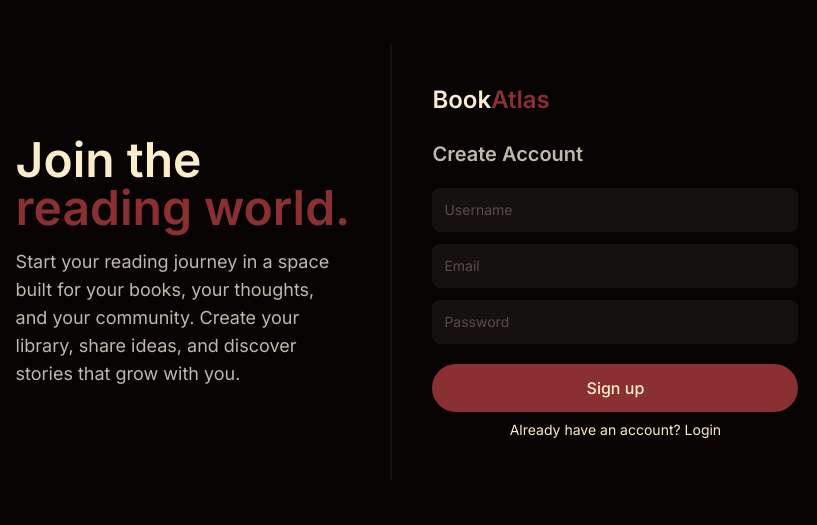
Test: RegisterPage › shows backend error when registration fails
Type "testuser1" into the field with placeholder "Username" at point(615, 210), box top-left (432, 188), bottom-right (798, 232)
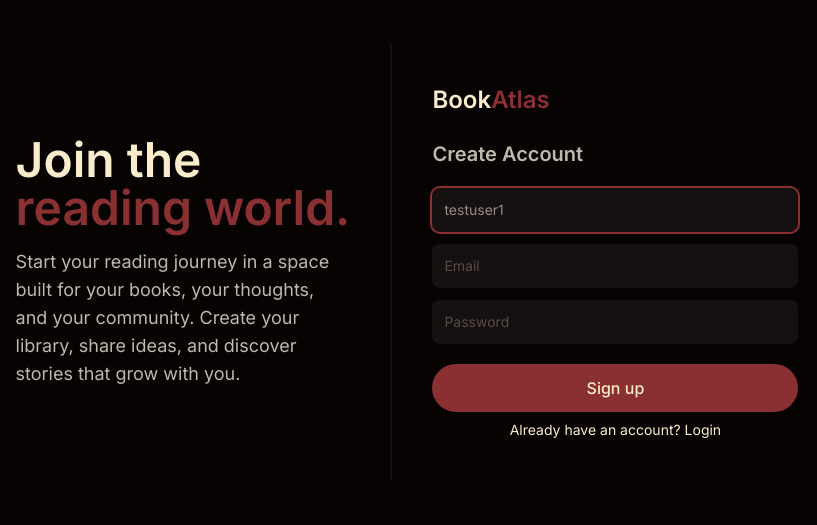
Type "testuser1@example.com" into the field with placeholder "Email" at point(615, 266), box top-left (432, 244), bottom-right (798, 288)
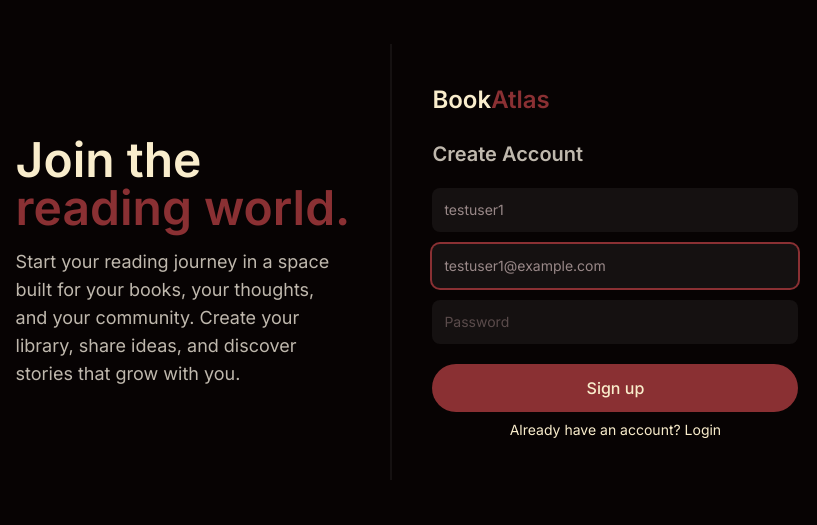
Type "Password123!" into the password field with placeholder "Password" at point(615, 322), box top-left (432, 300), bottom-right (798, 344)
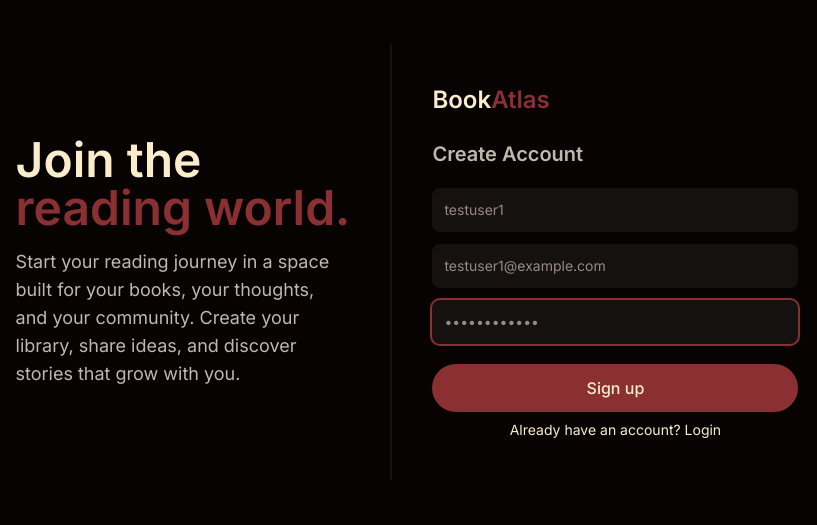
Click the button "Sign up" at point(615, 388), box top-left (432, 364), bottom-right (798, 412)
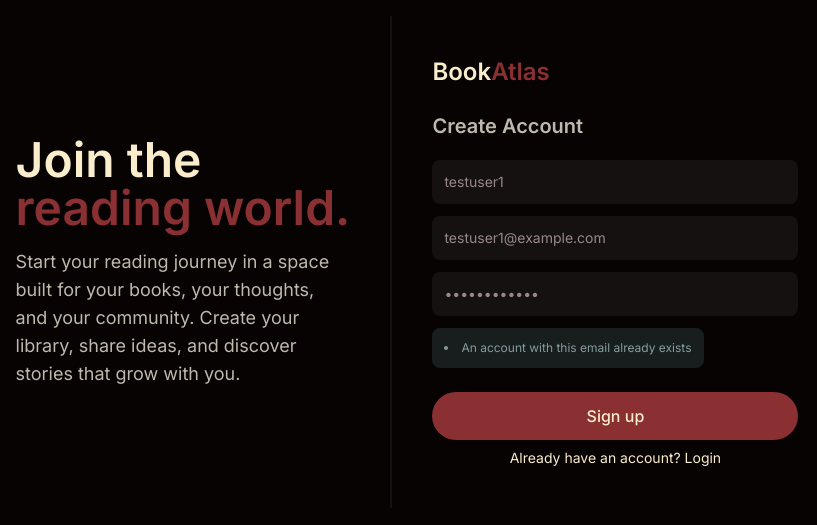
Now the list item "An account with this email already exists" is shown, box top-left (444, 340), bottom-right (692, 356)
